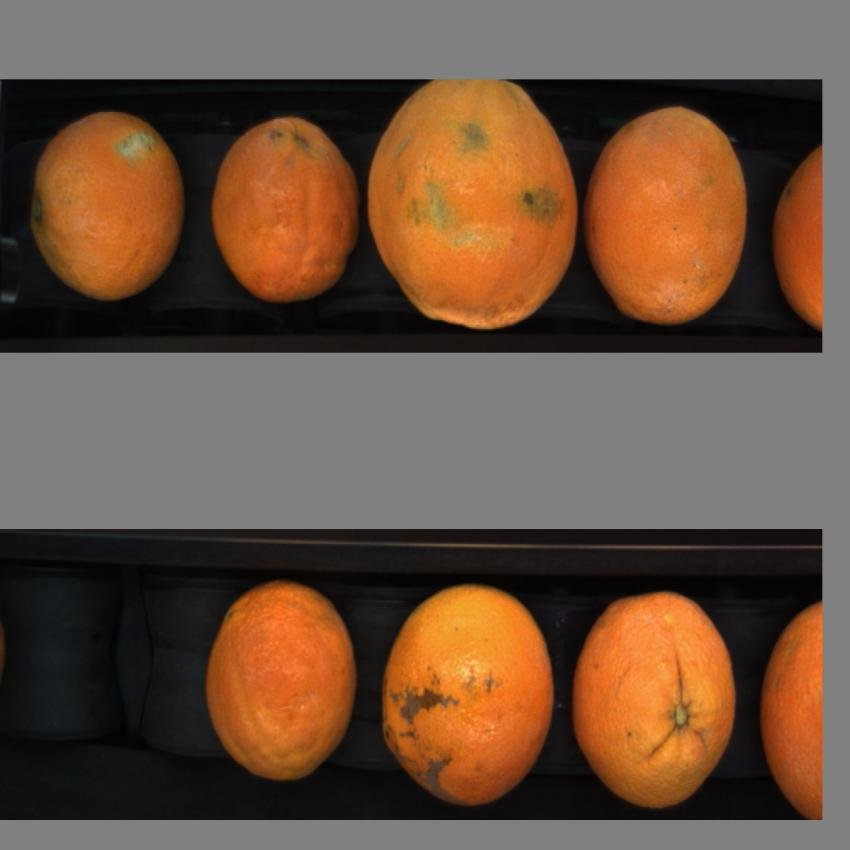Buen estado: (367, 83, 577, 328), (380, 579, 555, 810), (572, 585, 742, 808), (759, 594, 822, 817), (771, 142, 822, 329)
Mal estado: (584, 108, 756, 322), (203, 572, 361, 785), (208, 111, 367, 310), (28, 107, 186, 305)
